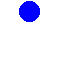circle: (19, 1, 39, 21)
